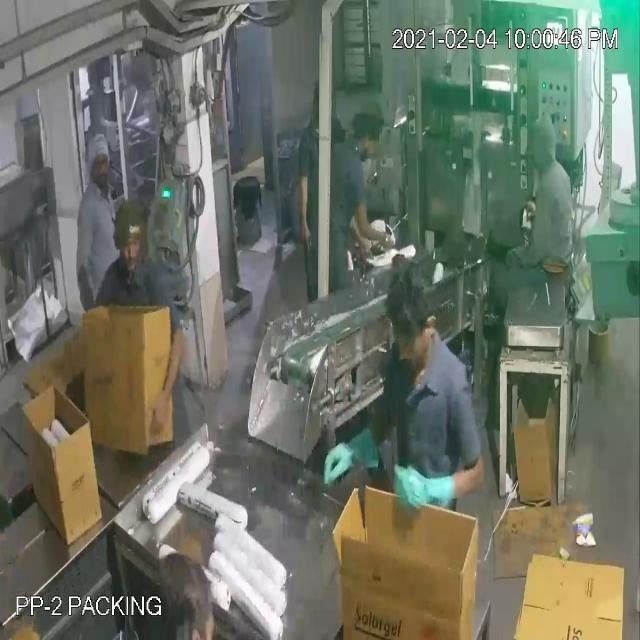No_Gloves: (28, 65, 441, 481)
